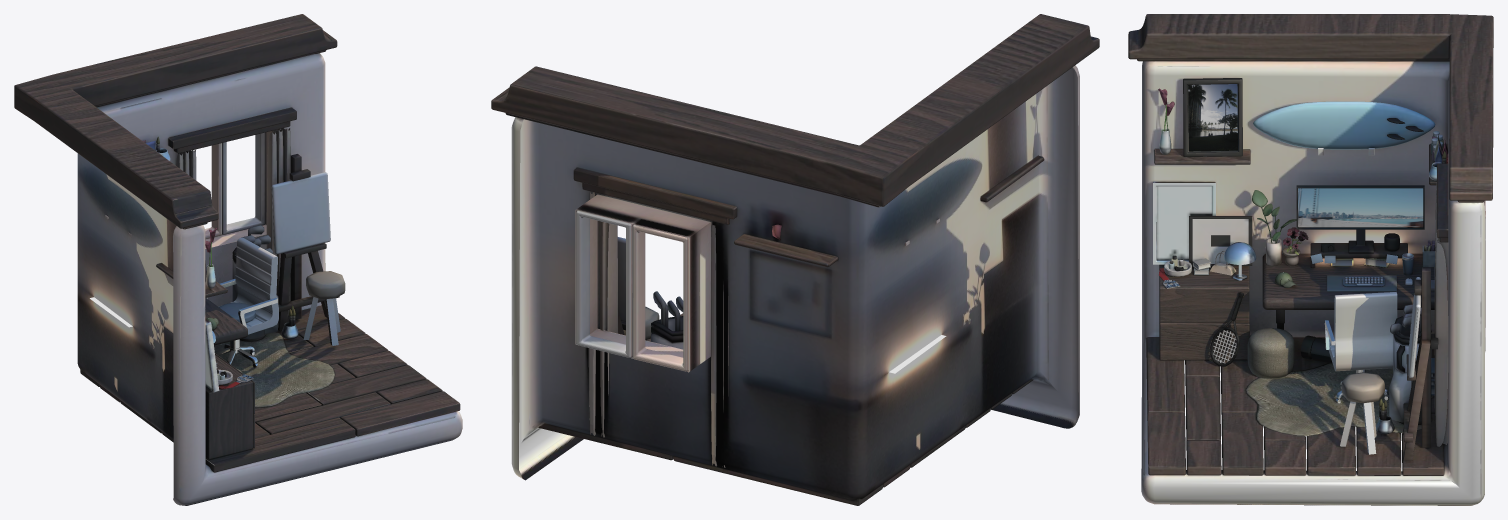
The model's file is apartment.glb.
The picture shows the model from 3 angles, left to right: view 1: azimuth 30°, elevation 25°; view 2: azimuth 150°, elevation 25°; view 3: azimuth 270°, elevation 25°; orthographic projection. The views are drawn at different scales.
Visible parts, largest first — view 1: Plane.023, Plane.081, Plane.094; view 2: Plane.023, Plane.081; view 3: Plane.023, Plane.081, Plane.094, Plane.002, Plane.003.
Part boxes in pixels (x1,y1,x2,y2): Plane.023: [14, 14, 462, 505]; Plane.081: [90, 132, 339, 392]; Plane.094: [205, 237, 345, 459]; Plane.023: [491, 14, 1099, 505]; Plane.081: [576, 210, 946, 373]; Plane.023: [1128, 14, 1493, 505]; Plane.081: [1153, 78, 1485, 460]; Plane.094: [1159, 253, 1434, 454]; Plane.002: [1298, 188, 1423, 227]; Plane.003: [1188, 84, 1237, 151].
Bounding box in the file's own units: 16.15 × 15.82 × 15.37.
Materials: 5 (5 with a texture image).
